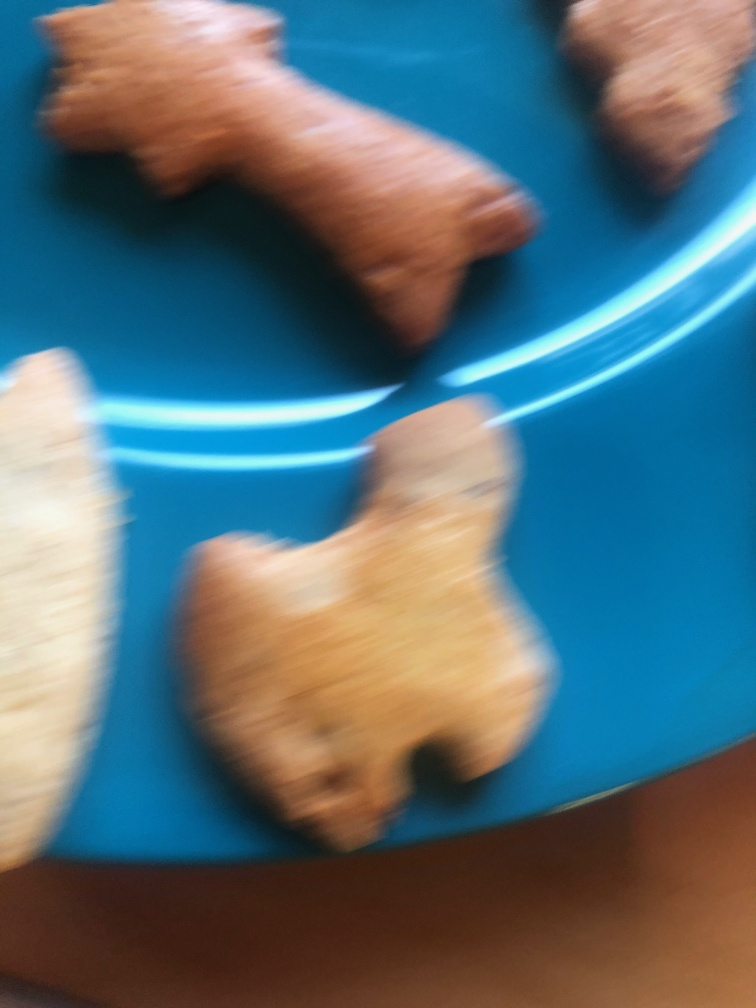lamb: (177, 396, 557, 850)
shooting star: (33, 1, 538, 360)
